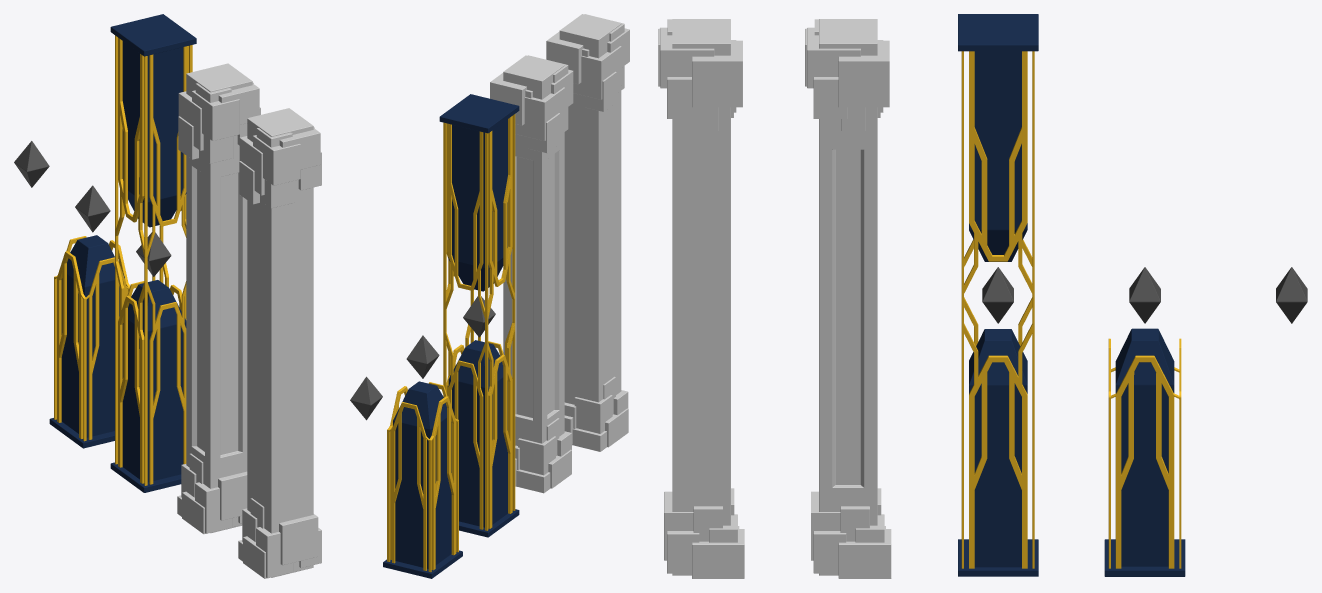
The model's file is Pillars.fbx.
3 views of the same model, side by side, from view 1: azimuth 30°, elevation 25°; view 2: azimuth 150°, elevation 25°; view 3: azimuth 270°, elevation 25° (orthographic). The views are drawn at different scales.
Visible parts, largest first — view 1: WallPillar, Room_pillar, WallPillar_detail, Room_pillar_lamp, Crystal; view 2: Room_pillar, WallPillar, WallPillar_detail, Room_pillar_lamp, Crystal; view 3: WallPillar_detail, WallPillar, Room_pillar, Room_pillar_lamp, Crystal.
Boxes of the visible parts, <box> form: WallPillar: <box>238,108,321,578</box>; Room_pillar: <box>110,14,196,492</box>; WallPillar_detail: <box>177,63,260,534</box>; Room_pillar_lamp: <box>49,185,129,448</box>; Crystal: <box>14,141,49,187</box>; Room_pillar: <box>439,94,519,537</box>; WallPillar: <box>546,14,629,451</box>; WallPillar_detail: <box>490,55,573,493</box>; Room_pillar_lamp: <box>383,335,462,578</box>; Crystal: <box>350,376,382,420</box>; WallPillar_detail: <box>805,19,891,578</box>; WallPillar: <box>658,19,744,578</box>; Room_pillar: <box>958,14,1038,576</box>; Room_pillar_lamp: <box>1104,267,1185,576</box>; Crystal: <box>1276,267,1307,323</box>.
Size of the model in its own units: 56.97 by 400 by 442.
